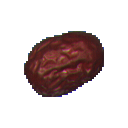gd: (20, 23, 113, 113)
